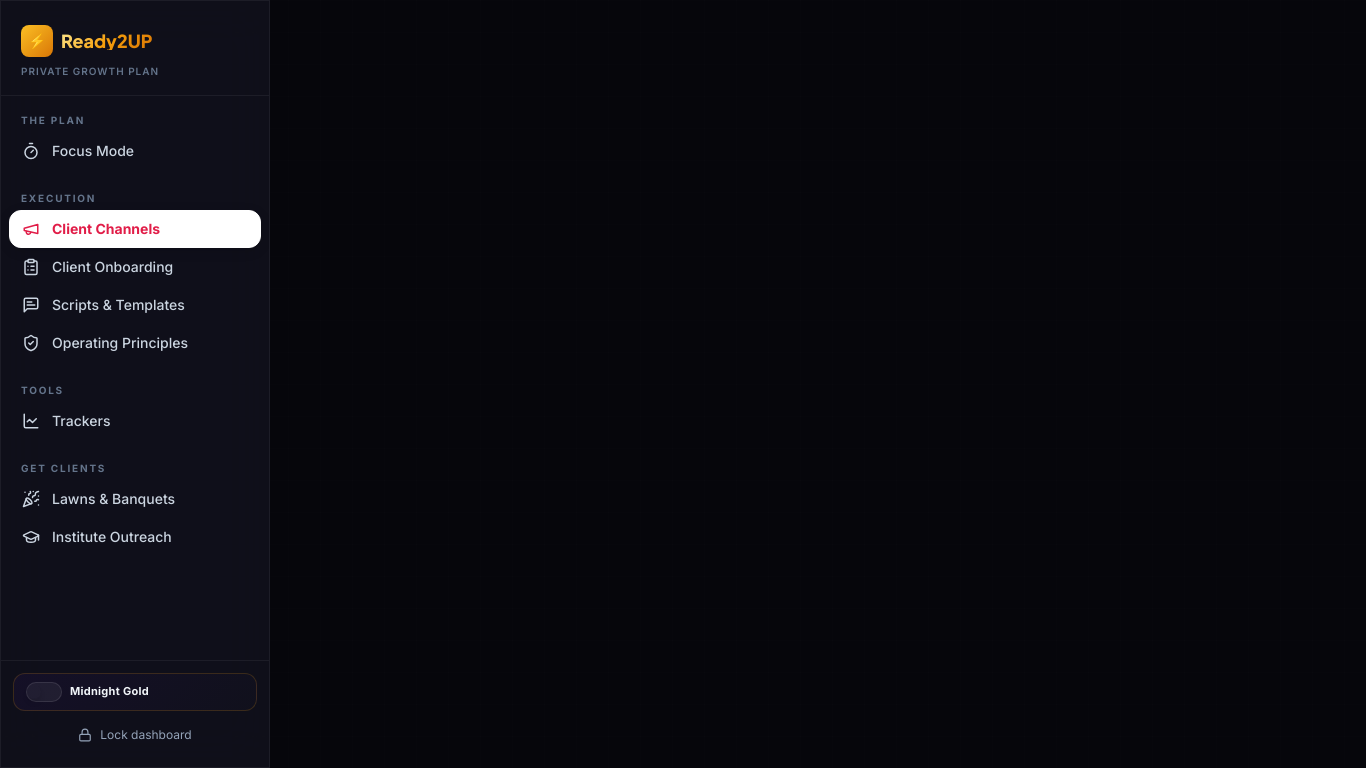
Test: Selecting a visible section renders it (Req 5.5) › renders the Operating Principles section when its nav entry is chosen
Expected: the text "12 rules — read every Monday morning" is not shown
Click the button "Operating Principles".
click(135, 343)  # box [9,324,261,362]
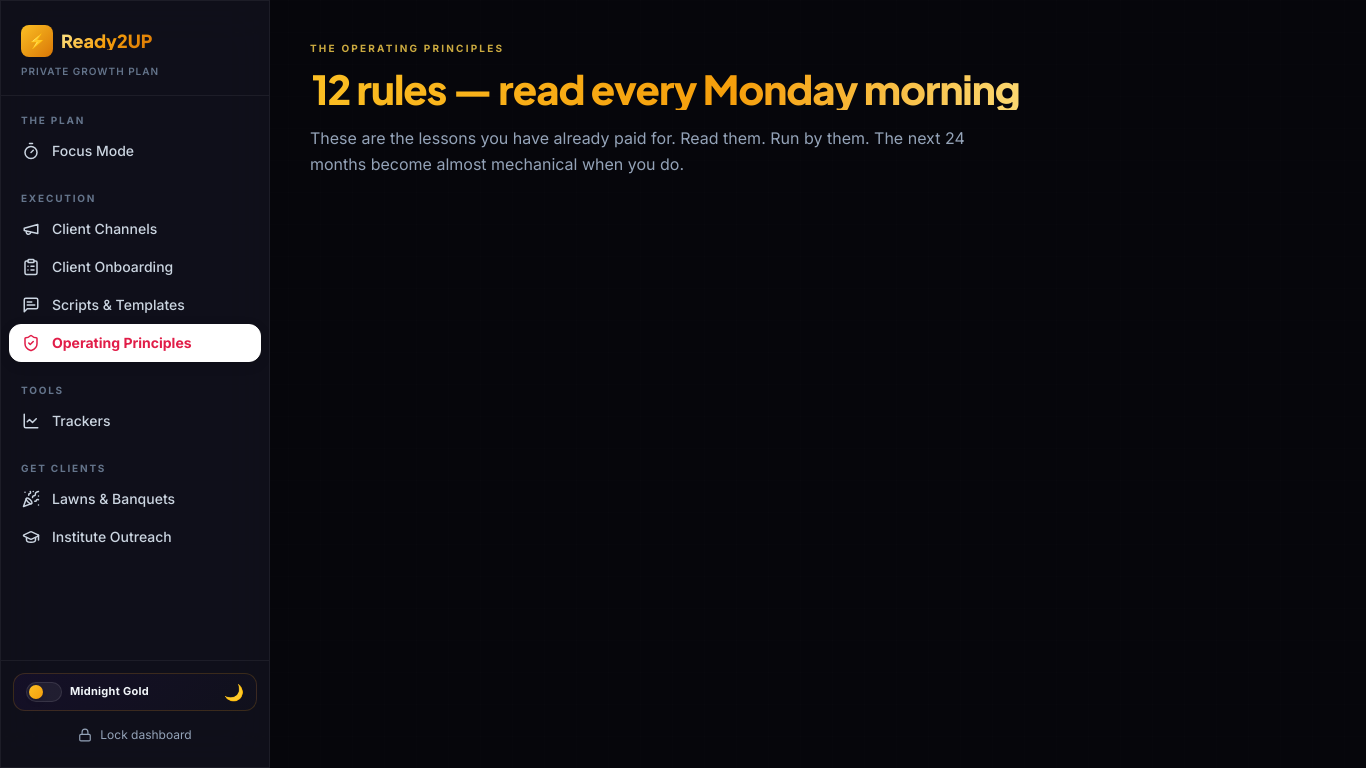
Expected: the heading "12 rules — read every Monday morning" is shown, [310,68,1022,110]
